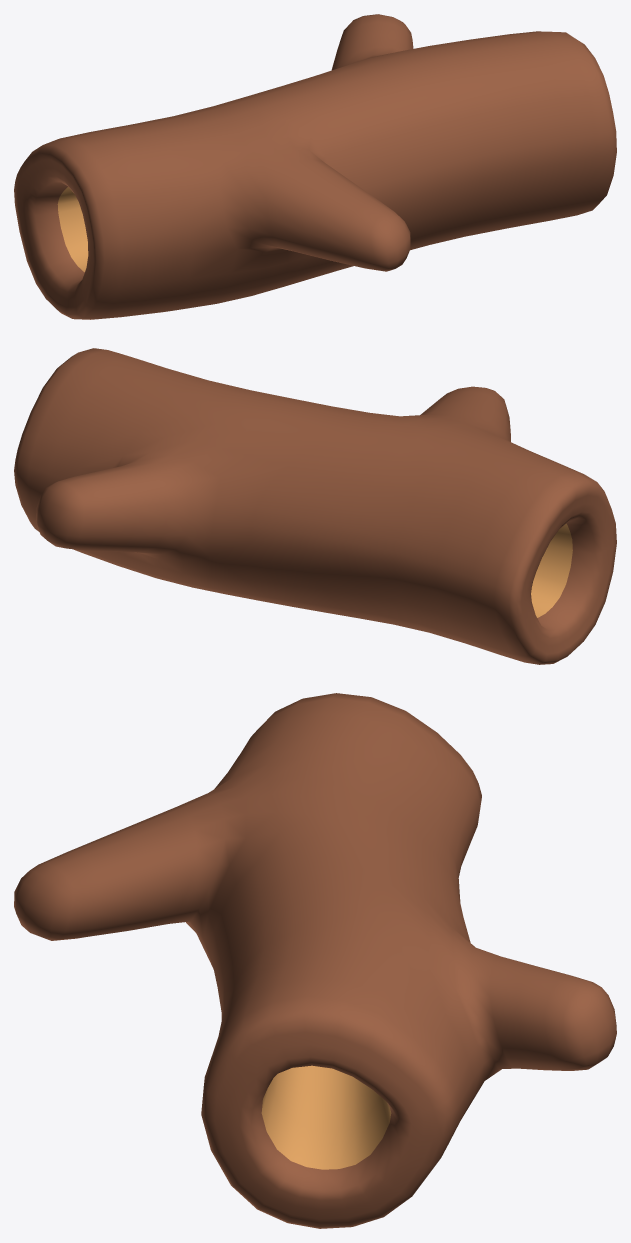
Rendered from Log_01.fbx.
The picture shows the model from 3 angles, top to bottom: view 1: azimuth 30°, elevation 25°; view 2: azimuth 150°, elevation 25°; view 3: azimuth 270°, elevation 25°; orthographic projection. The views are drawn at different scales.
Parts seen in each view (by area): view 1: Log_01_LOD0; view 2: Log_01_LOD0; view 3: Log_01_LOD0.
Part boxes in pixels (x1=…): Log_01_LOD0: x1=14, y1=14, x2=616, y2=319; Log_01_LOD0: x1=14, y1=348, x2=616, y2=664; Log_01_LOD0: x1=14, y1=693, x2=616, y2=1228.
Size of what is drawn, in the model's own units: 757 by 253 by 586.
